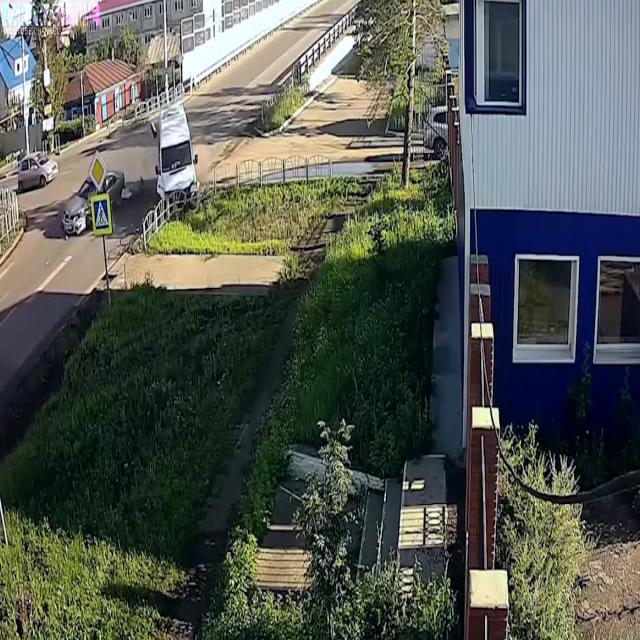accident: (150, 88, 199, 235)
